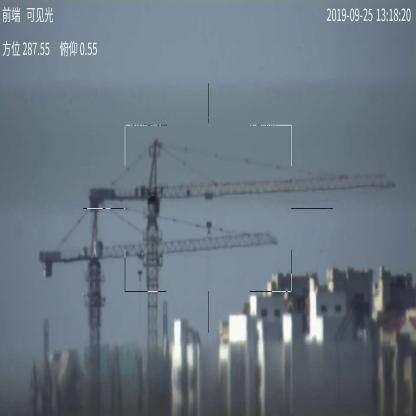uav: (141, 185, 163, 213)
